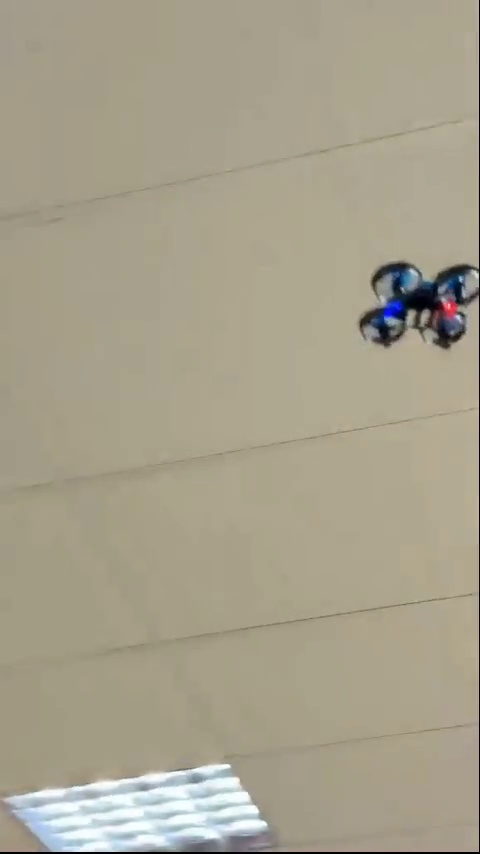drone: (363, 258, 475, 349)
